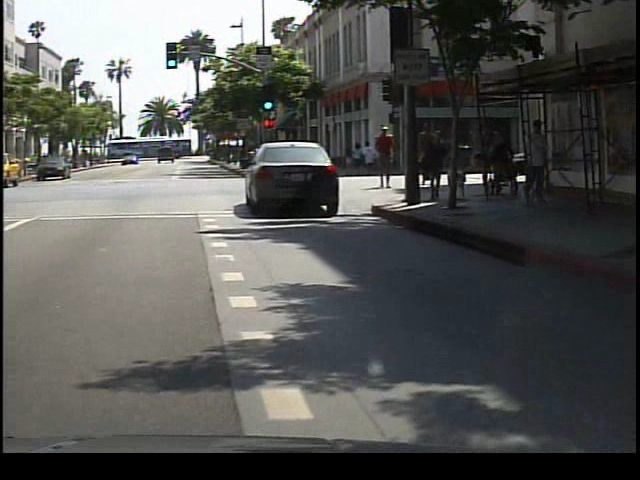person: (375, 121, 404, 195)
